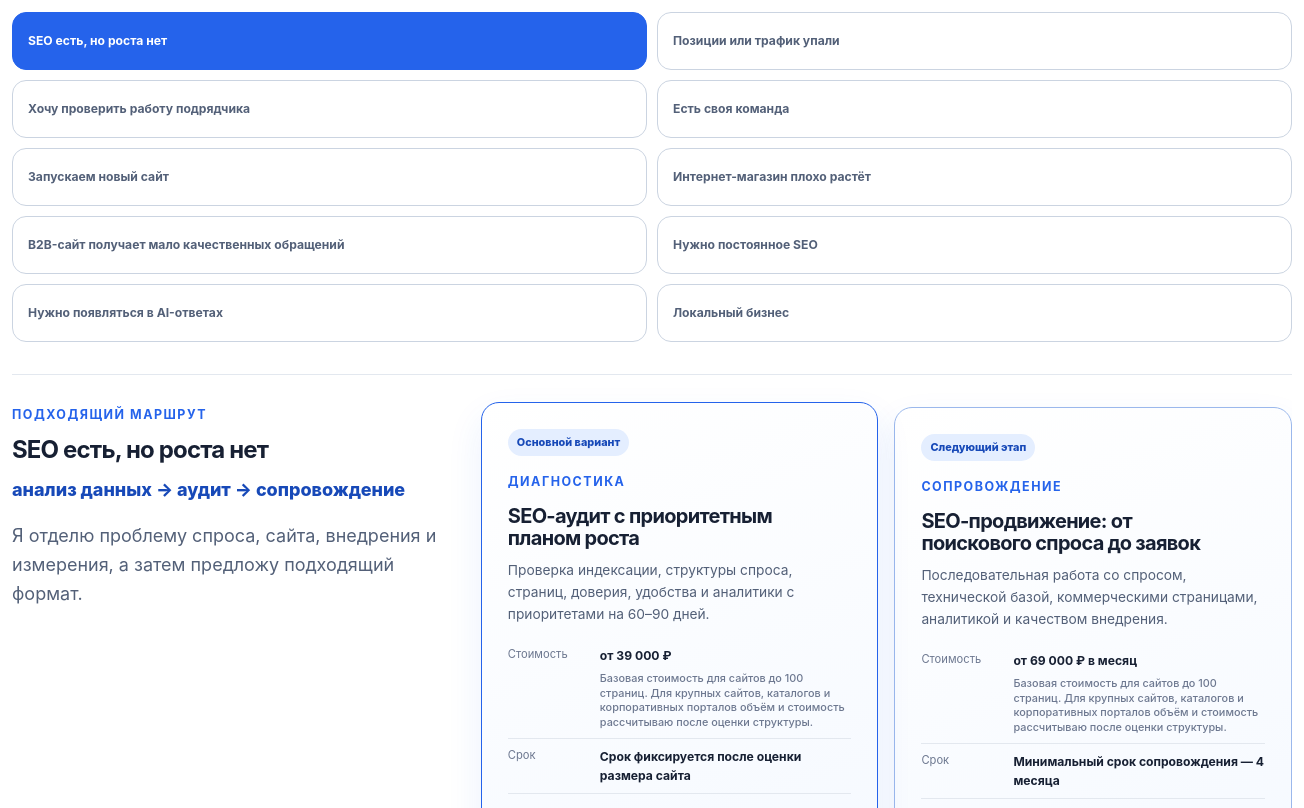
Test case: ServiceChooser › changes recommendations by situation and brings the result into view
Click the button "Интернет-магазин плохо растёт".
click(772, 176)  # box left=657, top=148, right=1292, bottom=206
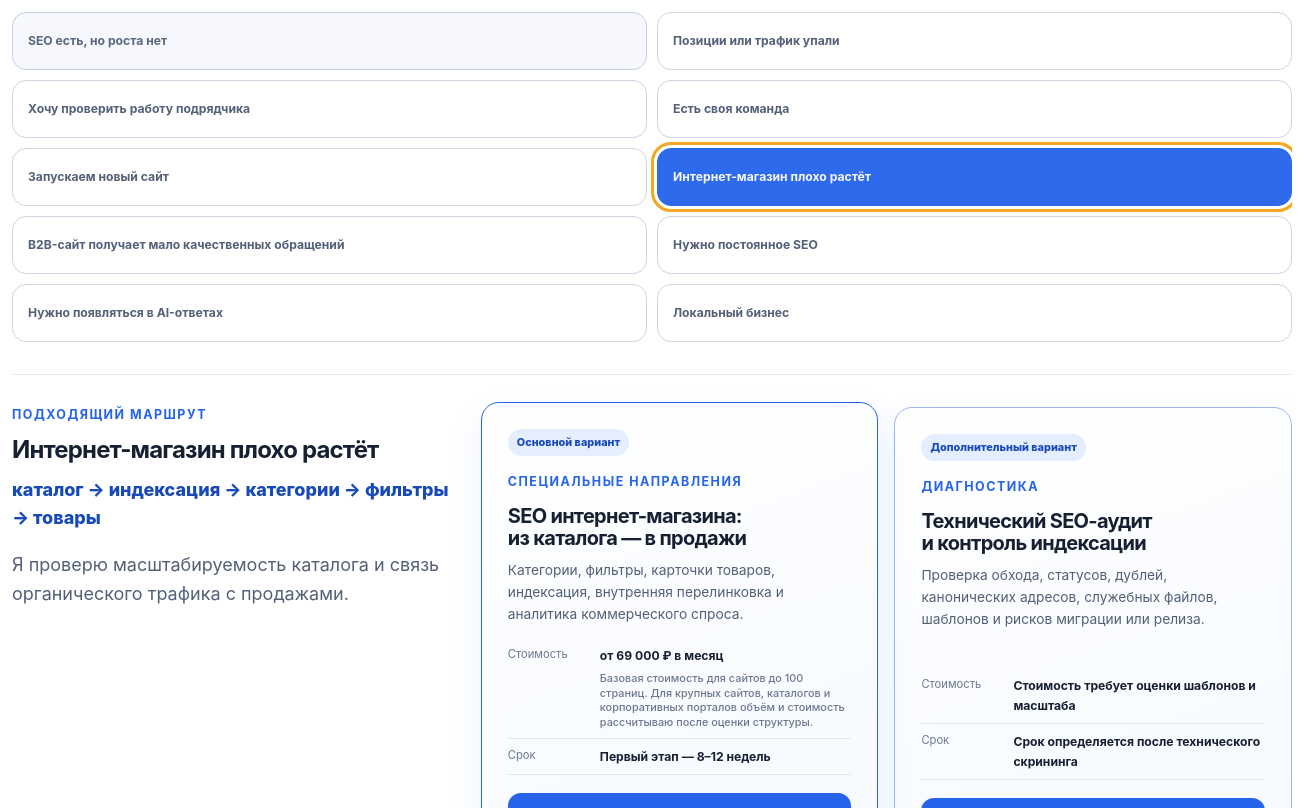
Expected: the heading "Интернет-магазин плохо растёт" is shown, left=12, top=435, right=378, bottom=464
Expected: the heading "SEO интернет-магазина: из каталога — в продажи" is shown, left=508, top=504, right=746, bottom=550
